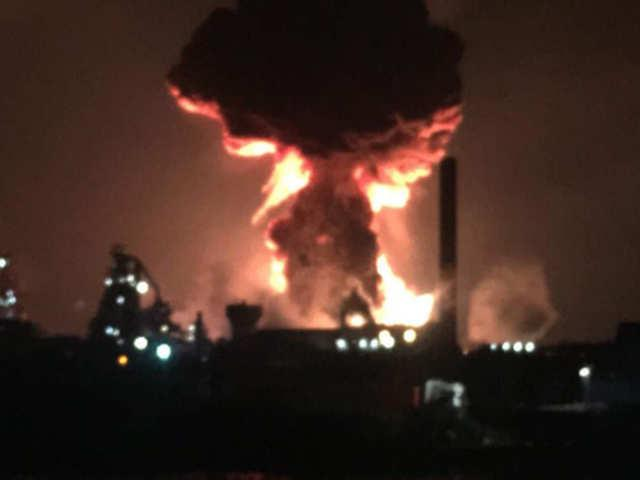fire: (226, 124, 305, 295), (365, 159, 436, 331)
